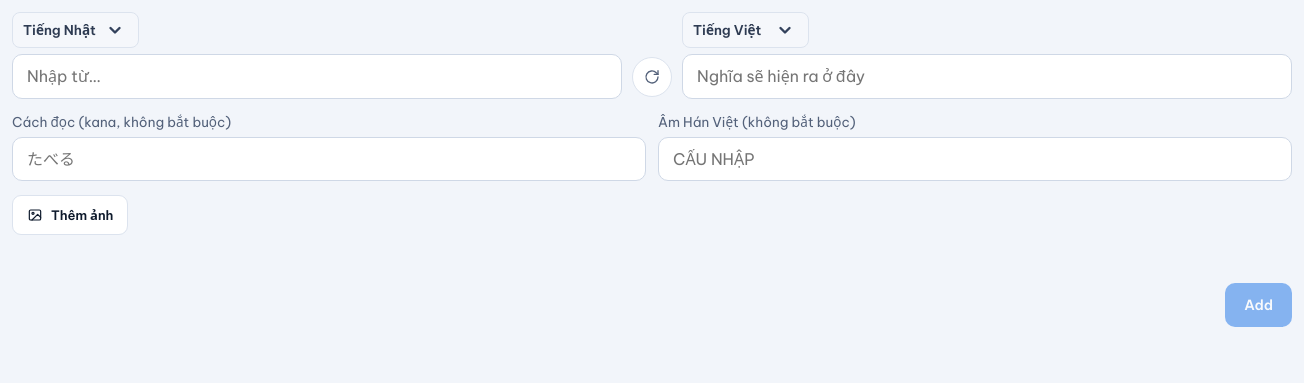
Test: CardEditor term warning › marks the term box yellow with a note under it when the word is already in the deck
In the text box with class "fc-input" showing "Nhập từ…": [317, 76] box [12,54,622,99], type "食べる"
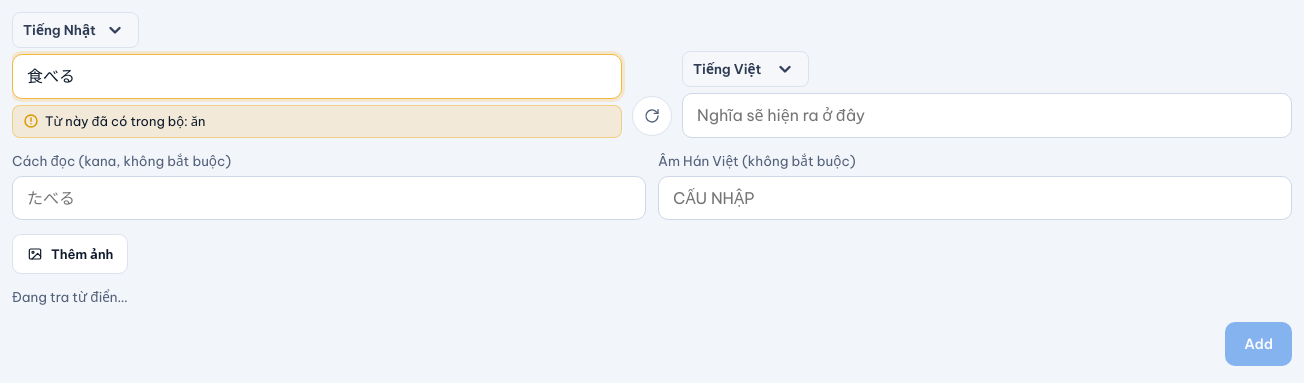
Result: the message with class "fc-field__warn" shows "ăn" at [45,113,206,129]
Replace the text in the 1st text box with class "fc-input" with "飲む": [317, 76] box [12,54,622,99]
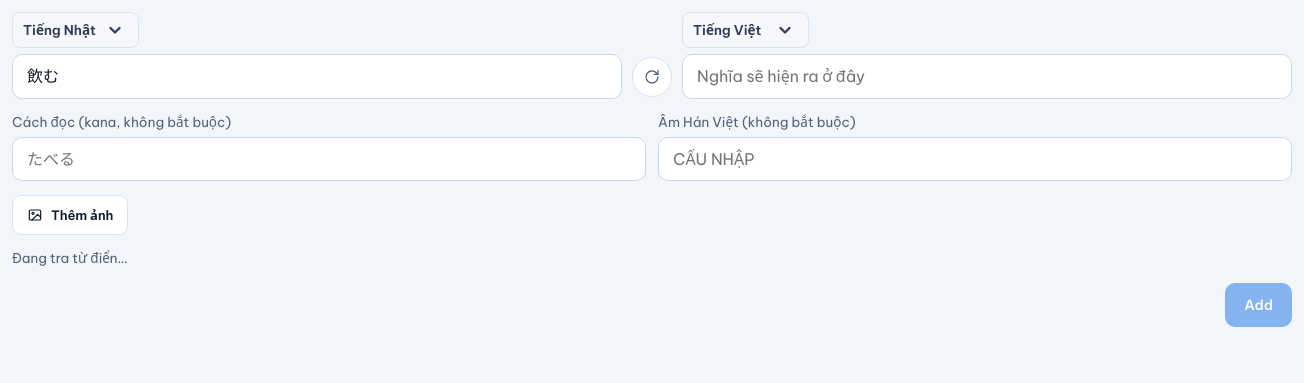
Result: the message with class "fc-field__warn" is gone
Result: the text "ăn" is gone
